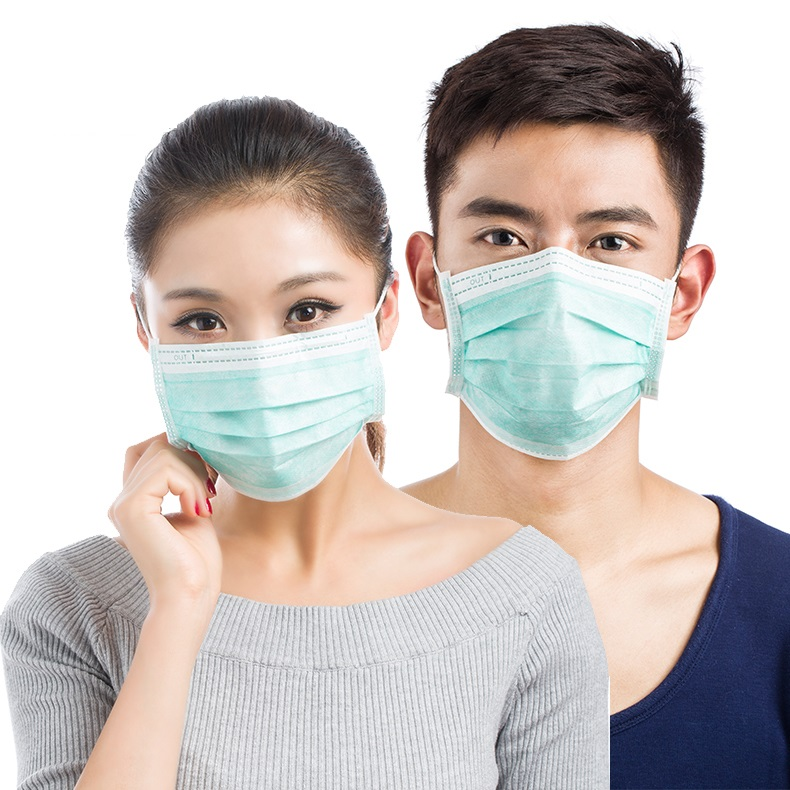face_mask: (436, 121, 673, 430), (149, 198, 383, 496)
